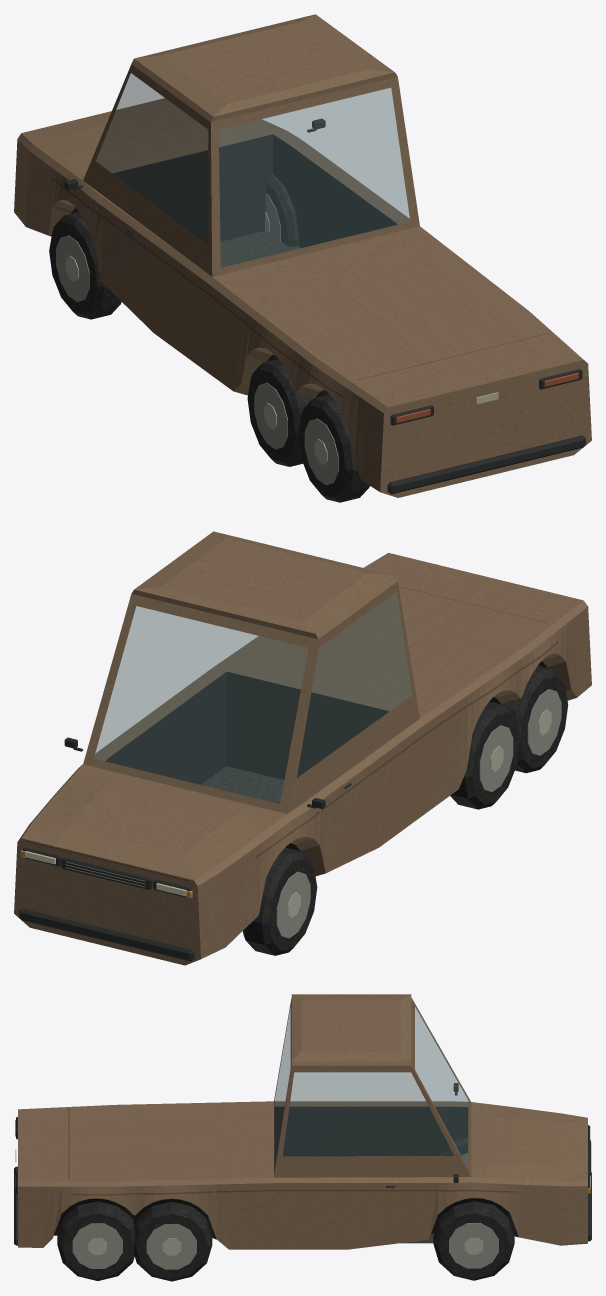
File: vehicle_semi.glb
The picture shows the model from 3 angles, top to bottom: view 1: azimuth 30°, elevation 25°; view 2: azimuth 150°, elevation 25°; view 3: azimuth 270°, elevation 25°; orthographic projection. The views are drawn at different scales.
Visible parts, largest first — view 1: closed_body, glazing, roof_body; view 2: closed_body, glazing, roof_body; view 3: closed_body, glazing, roof_body.
Boxes of the visible parts, x1,y1,x2,y2 form: closed_body: (14,64,591,502); glazing: (96,73,409,267); roof_body: (131,14,397,121); closed_body: (14,553,591,965); glazing: (94,591,411,803); roof_body: (131,531,397,639); closed_body: (14,997,591,1281); glazing: (274,1007,468,1167); roof_body: (291,994,411,1065).
Size of the model in its own units: 2.66 by 2.83 by 6.84.
Materials: 2 (2 with a texture image).
